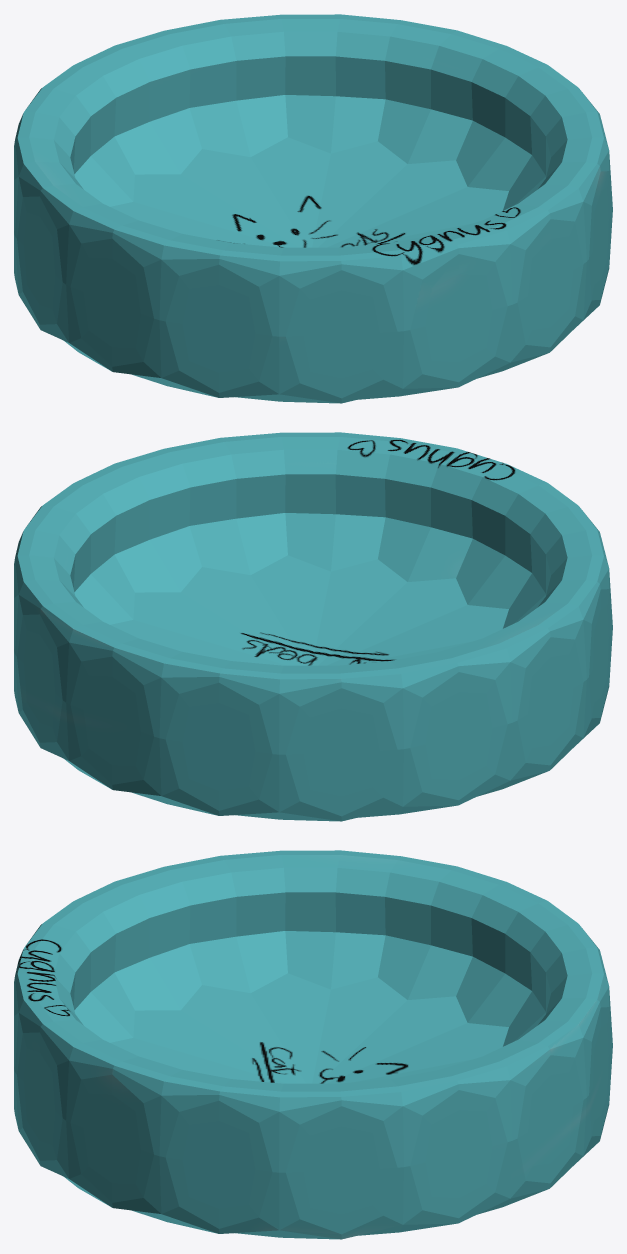
Rendered from CatBed.fbx.
3 renders of one model, top to bottom at view 1: azimuth 30°, elevation 25°; view 2: azimuth 150°, elevation 25°; view 3: azimuth 270°, elevation 25°, orthographic.
Parts seen in each view (by area): view 1: Cylinder; view 2: Cylinder; view 3: Cylinder.
Boxes of the visible parts, left/top/right/bottom form: Cylinder: left=14, top=14, right=612, bottom=403; Cylinder: left=14, top=432, right=612, bottom=821; Cylinder: left=14, top=850, right=612, bottom=1239.
Bounding box in the file's own units: 124 × 32.93 × 123.
1 material, 1 textured.
